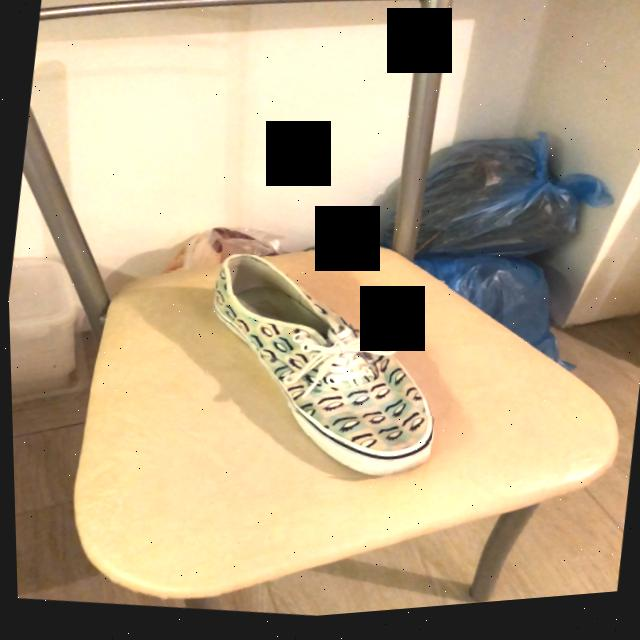shoe: (210, 259, 431, 486)
